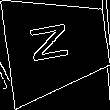N_E: (33, 22, 81, 70)
